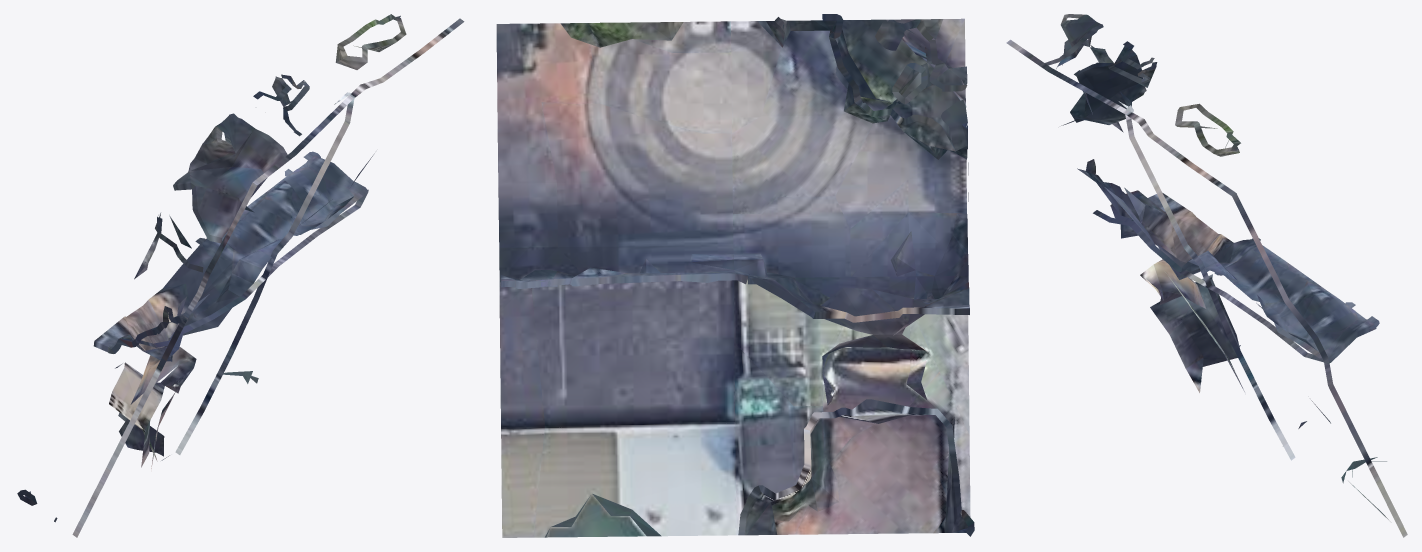
3 renders of one model, left to right at view 1: azimuth 30°, elevation 25°; view 2: azimuth 150°, elevation 25°; view 3: azimuth 270°, elevation 25°, orthographic. The views are drawn at different scales.
Bounding box in the file's own units: 40.95 × 37.44 × 32.45.
Materials: 1 (1 with a texture image).
